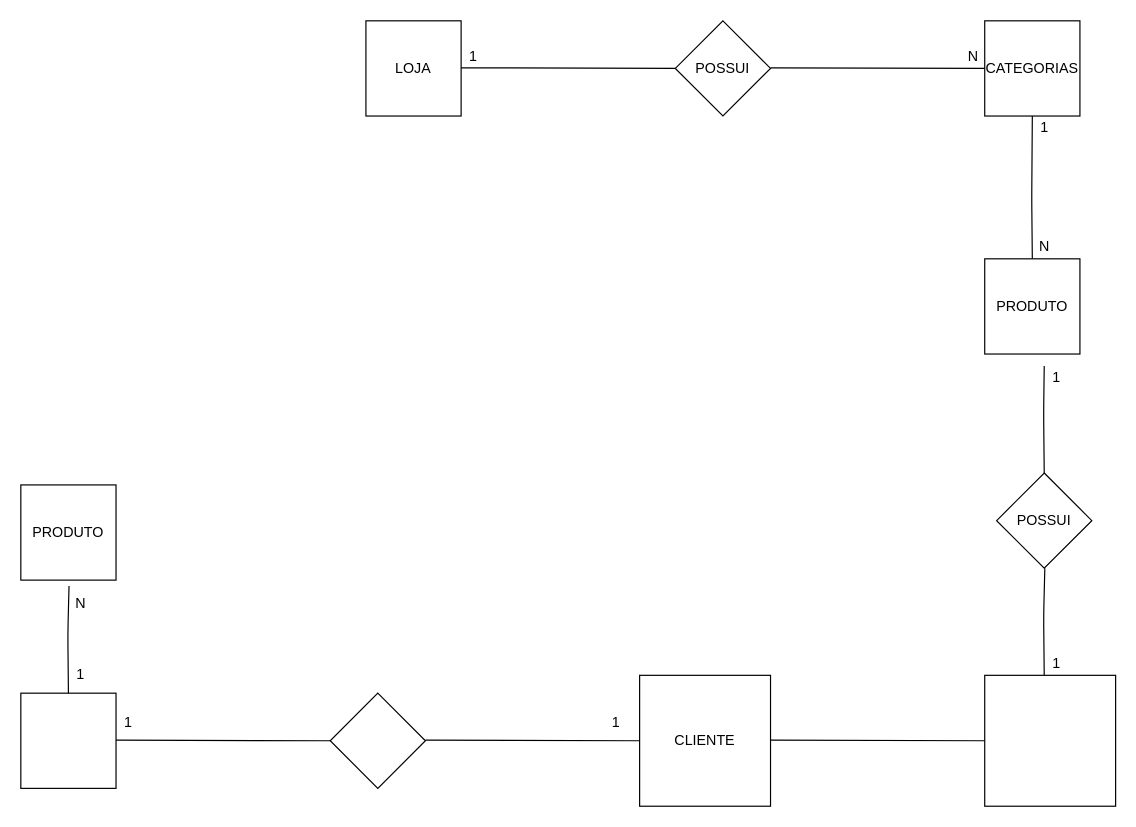
Some shapes in this 1136 by 827 pixel diagram are drawn without their labels. The shapes that lost their labels are listed below. From the top down, each one's centre as x and y in pixels, then its label:
point (68, 740): PEDIDO
point (377, 740): EFETUA
point (1050, 740): SUBCATEGORIA
